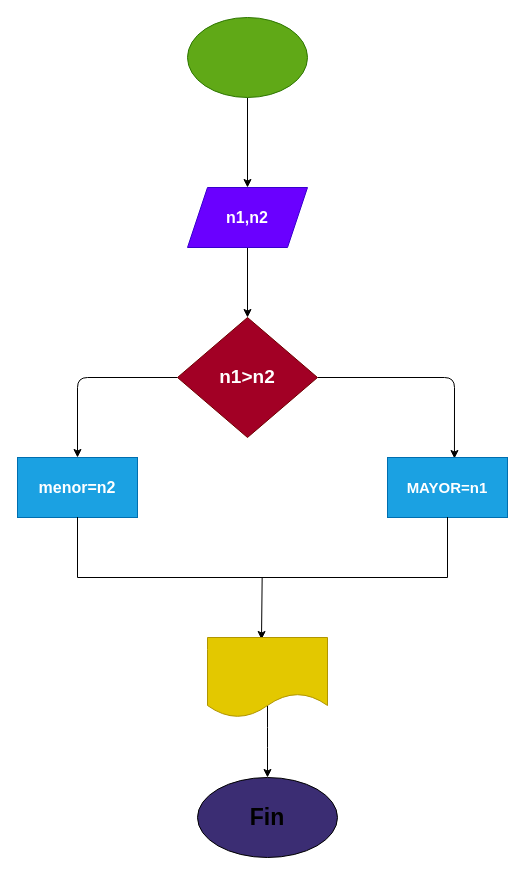
Image size: 525x875. Some labels were removed from this diagram. Here are the shapes that lost their labels. From the top down, the centre of each, then its label:
At (x=247, y=57): "inicio".
At (x=267, y=677): "mayor".
